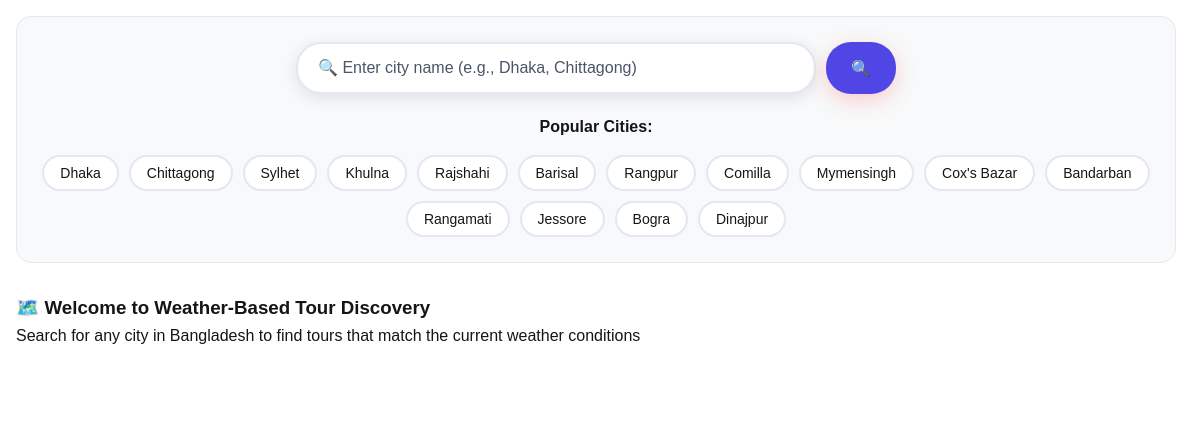
WeatherSuggestion › surfaces a readable message when the weather lookup fails
Type "Dhaka" into the field with placeholder "🔍 Enter city name (e.g., Dhaka, Chittagong)" at (556, 68), box [296, 42, 816, 94]
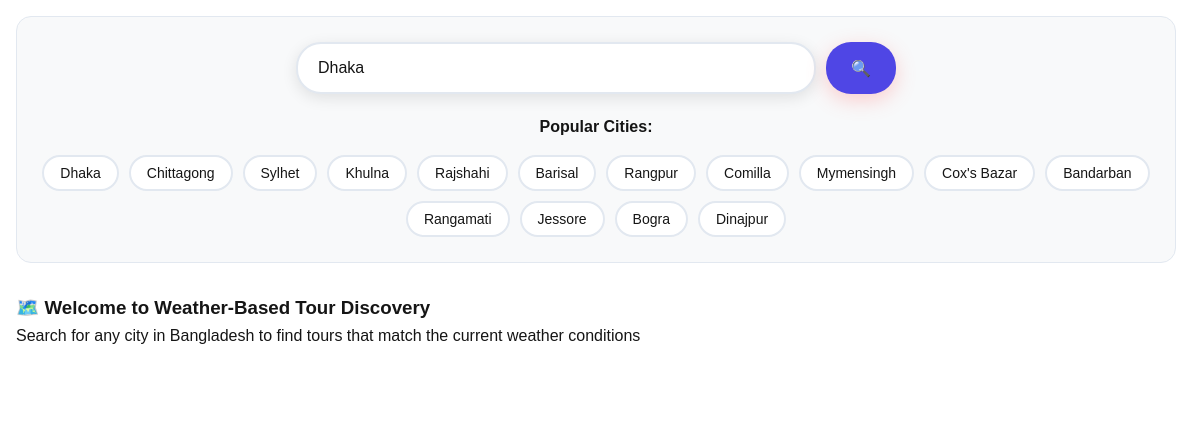
Click the button "🔍" at (861, 68), box [826, 42, 896, 94]
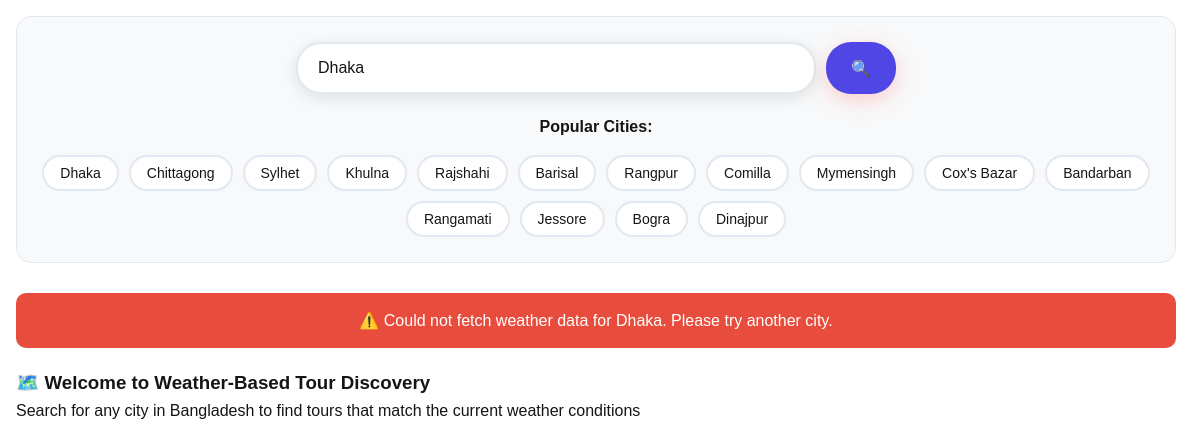
Now the text "Could not fetch weather data for Dhaka" is shown, box [384, 312, 833, 329]
